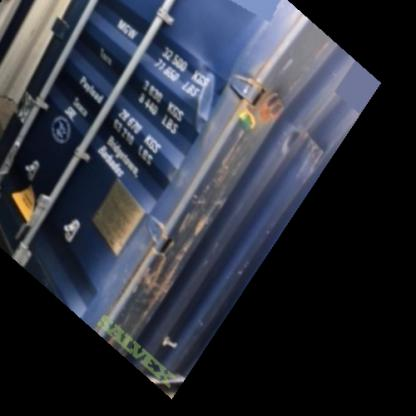Damage: (180, 161, 251, 286), (113, 220, 179, 324), (247, 76, 304, 158), (187, 59, 217, 129)
